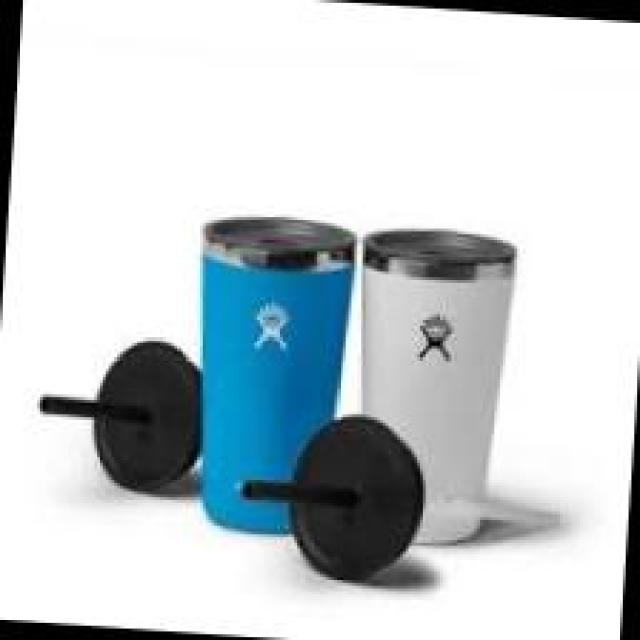bottle: (165, 202, 362, 547), (330, 204, 519, 556)
